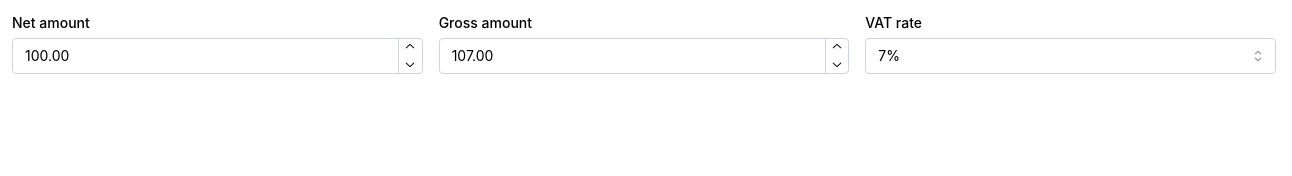
Test: LineItem - Additional Edge Cases › renders with custom VAT rates
Click the field with test id "line-item-vat-rate": (1071, 56) [865,38,1276,74]
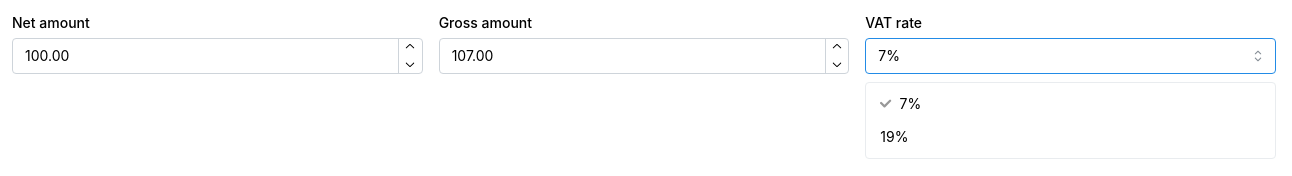
Expected: the option "7%" is shown, [880,95,921,112]
Expected: the option "19%" is shown, [880,128,908,145]
